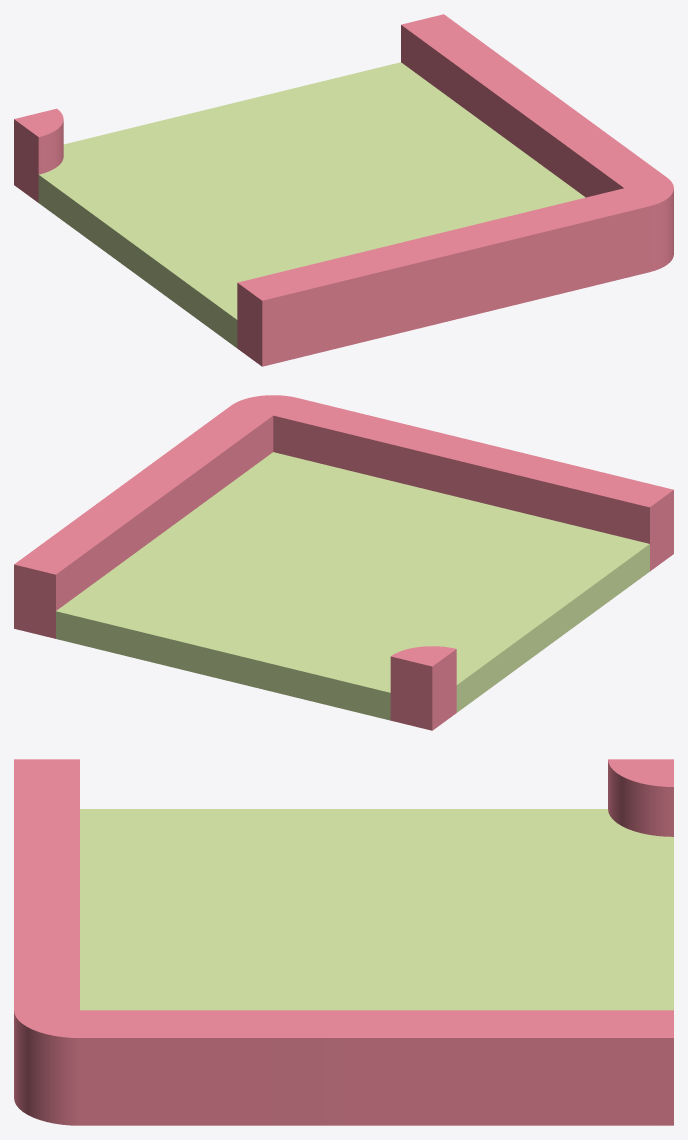
File: squareCornerA.fbx
The picture shows the model from 3 angles, top to bottom: view 1: azimuth 30°, elevation 25°; view 2: azimuth 150°, elevation 25°; view 3: azimuth 270°, elevation 25°; orthographic projection. The views are drawn at different scales.
Parts seen in each view (by area): view 1: squareCornerA; view 2: squareCornerA; view 3: squareCornerA.
Boxes of the visible parts, x1,y1,x2,y2 form: squareCornerA: (14, 14, 673, 366); squareCornerA: (14, 395, 673, 730); squareCornerA: (14, 759, 673, 1125).
Bounding box in the file's own units: 99.99 × 14.67 × 99.99.
